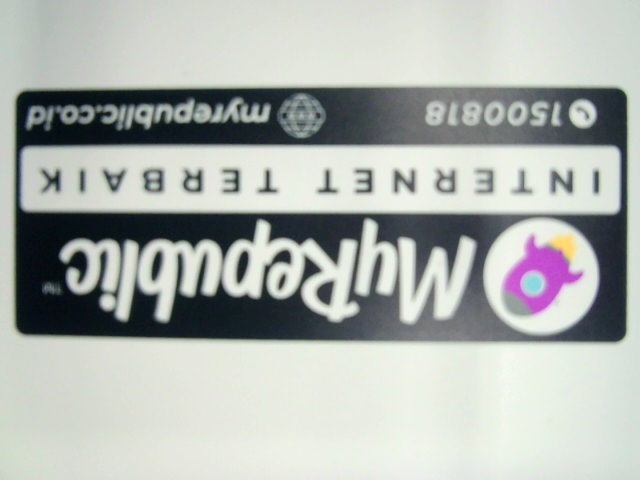BD_MyRepublic: (13, 78, 632, 348)
